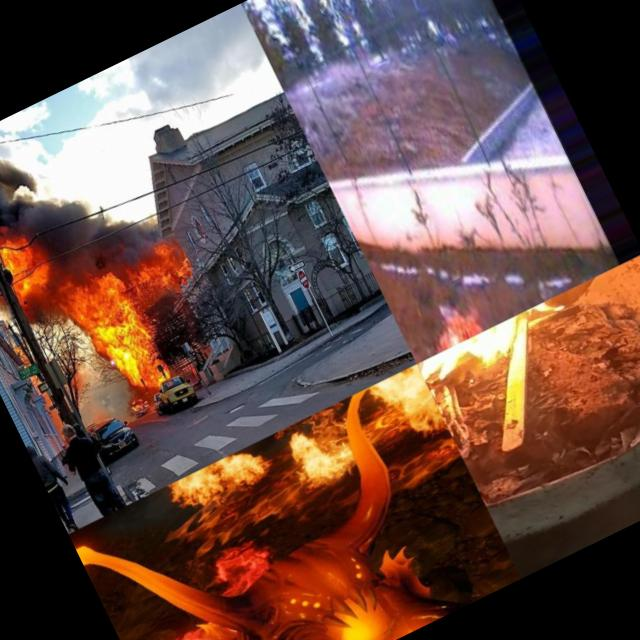fire: (416, 286, 604, 420), (56, 260, 168, 396), (161, 441, 278, 531), (364, 364, 454, 466), (274, 408, 364, 498), (118, 234, 197, 304), (0, 208, 51, 316), (413, 282, 486, 352)
smoke: (13, 152, 169, 296), (0, 120, 42, 219)
